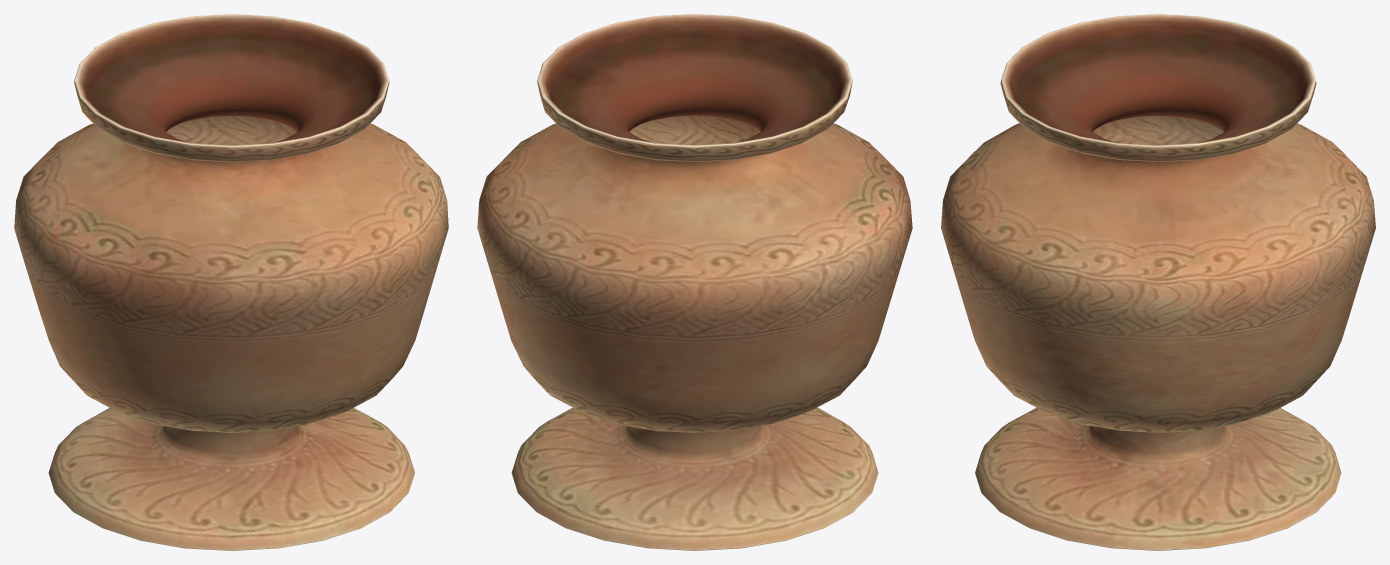
The model's file is ph-brass-vase-03.glb.
The picture shows the model from 3 angles, left to right: view 1: azimuth 30°, elevation 25°; view 2: azimuth 150°, elevation 25°; view 3: azimuth 270°, elevation 25°; orthographic projection.
Visible parts, largest first — view 1: brass_vase_03; view 2: brass_vase_03; view 3: brass_vase_03.
Part boxes in pixels (bbox=[...]): brass_vase_03: bbox=[14, 14, 448, 550]; brass_vase_03: bbox=[477, 14, 912, 550]; brass_vase_03: bbox=[941, 14, 1375, 550].
Size of the model in its own units: 1 by 1 by 1.
Materials: 1 (1 with a texture image).
